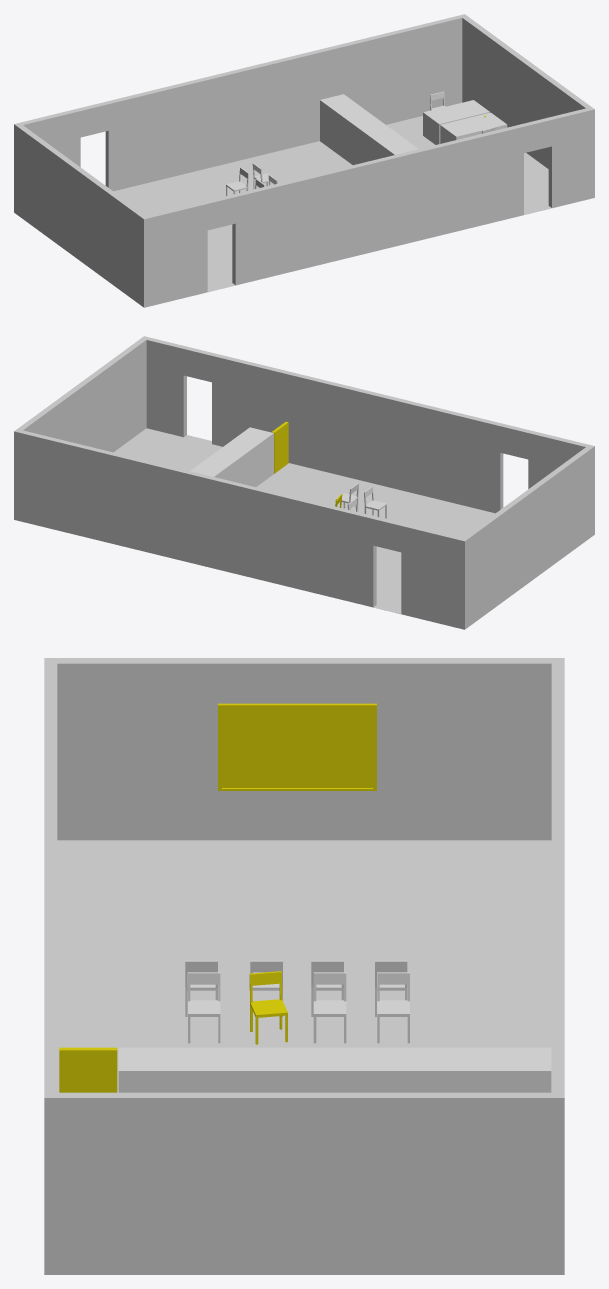
File: Raum04.fbx
The picture shows the model from 3 angles, top to bottom: view 1: azimuth 30°, elevation 25°; view 2: azimuth 150°, elevation 25°; view 3: azimuth 270°, elevation 25°; orthographic projection. The views are drawn at different scales.
Parts seen in each view (by area): view 1: Raum04, Tresen, Tisch02, Tisch01; view 2: Raum04, Tresen, TresenTuer; view 3: Raum04, Tresen, Bild, TresenTuer, Stuhl08, Stuhl10, Stuhl09, Stuhl07, Stuhl03, Stuhl06.
Part boxes in pixels (left/top/right/bottom): Raum04: left=14, top=14, right=594, bottom=307; Tresen: left=320, top=94, right=418, bottom=164; Tisch02: left=423, top=100, right=489, bottom=144; Tisch01: left=440, top=112, right=507, bottom=143; Raum04: left=14, top=336, right=594, bottom=629; Tresen: left=190, top=427, right=273, bottom=486; TresenTuer: left=271, top=421, right=288, bottom=473; Raum04: left=44, top=658, right=564, bottom=1274; Tresen: left=118, top=1047, right=551, bottom=1092; Bild: left=218, top=703, right=376, bottom=790; TresenTuer: left=59, top=1047, right=117, bottom=1092; Stuhl08: left=249, top=971, right=287, bottom=1044; Stuhl10: left=313, top=972, right=346, bottom=1043; Stuhl09: left=377, top=972, right=409, bottom=1043; Stuhl07: left=188, top=972, right=220, bottom=1043; Stuhl03: left=311, top=960, right=343, bottom=1016; Stuhl06: left=185, top=960, right=217, bottom=1016.
Size of the model in its own units: 3200 by 600 by 1600.
